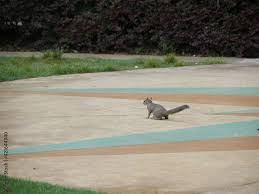squirrel: (141, 97, 191, 122)
